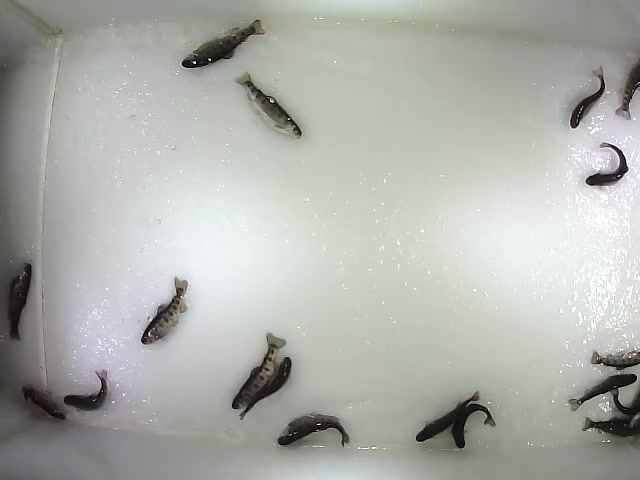fish: (233, 70, 304, 143), (179, 17, 267, 70), (231, 331, 288, 411), (238, 355, 293, 423), (414, 390, 482, 444), (140, 276, 190, 346), (567, 372, 638, 413), (276, 411, 351, 449), (568, 63, 608, 132), (5, 261, 34, 341), (451, 402, 497, 450), (585, 141, 629, 188), (62, 369, 110, 412), (20, 382, 69, 422)
